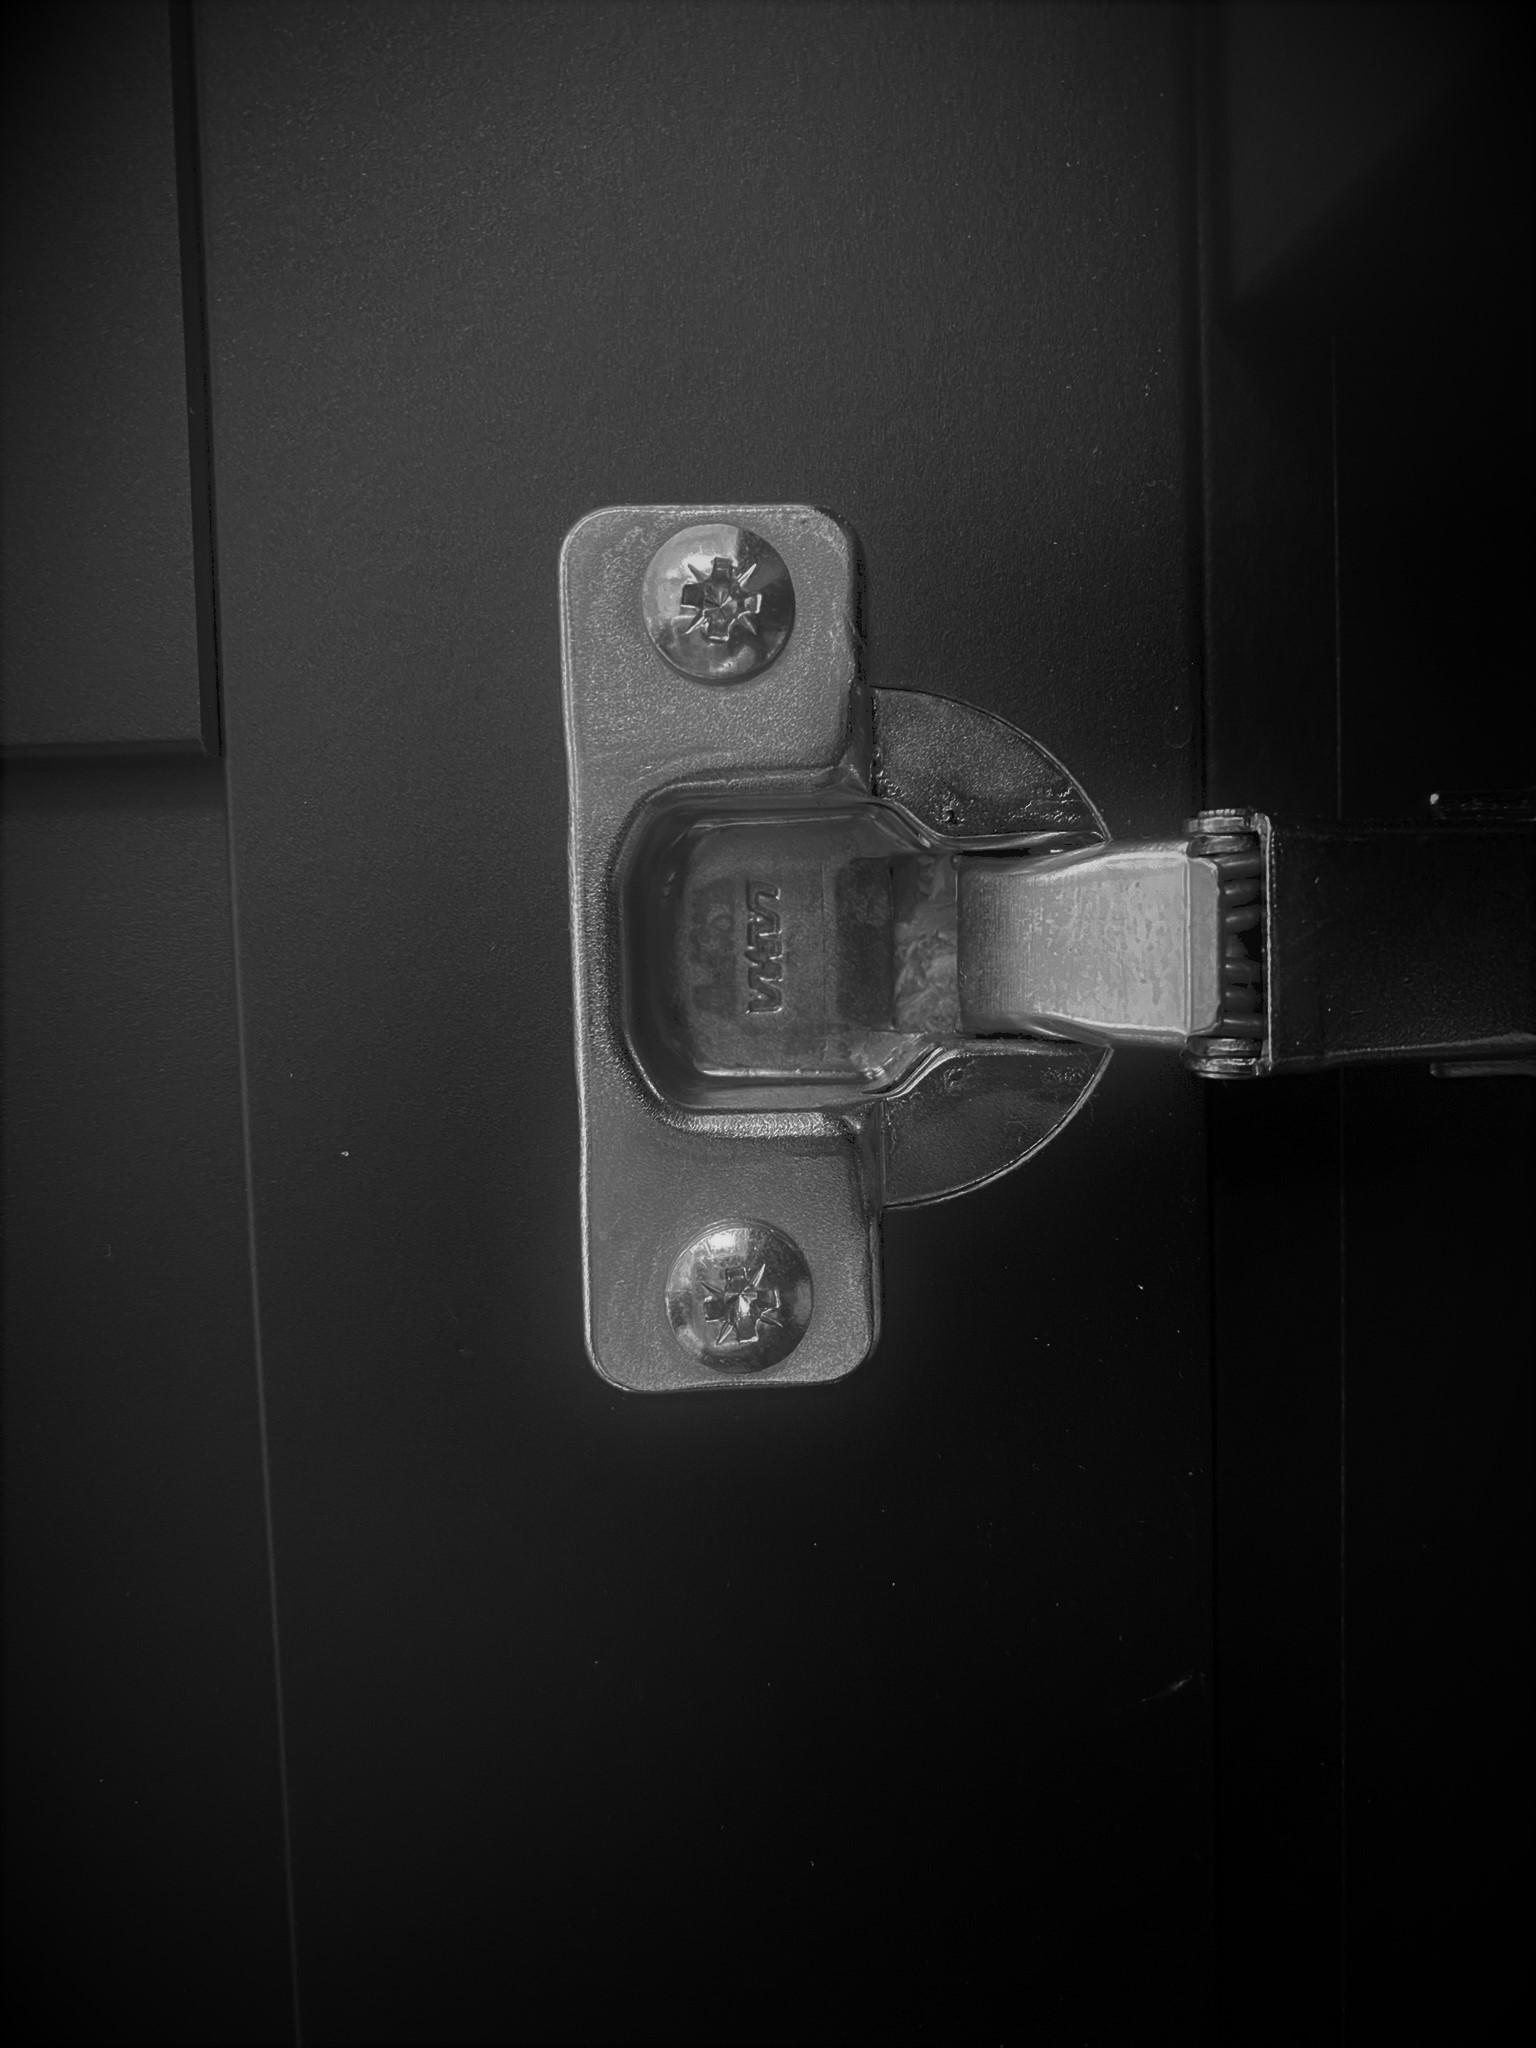PH: (645, 522, 802, 685), (665, 1221, 820, 1376)
